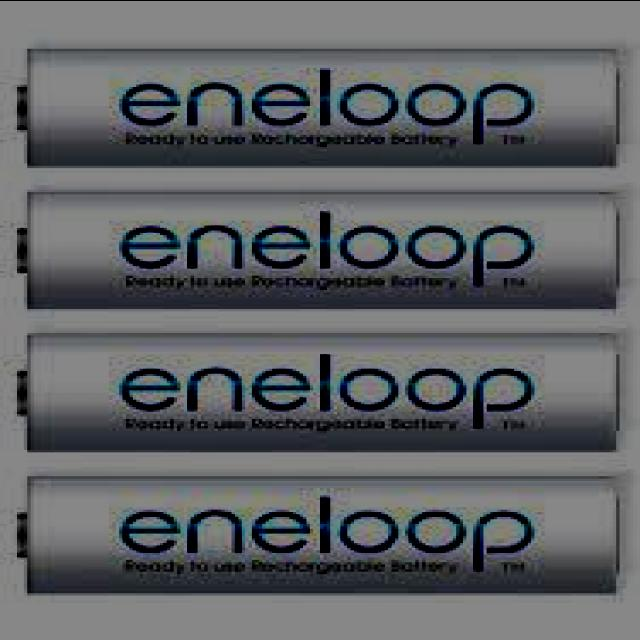AA: (11, 472, 624, 600), (10, 45, 623, 173), (10, 328, 622, 456), (11, 185, 623, 313)
